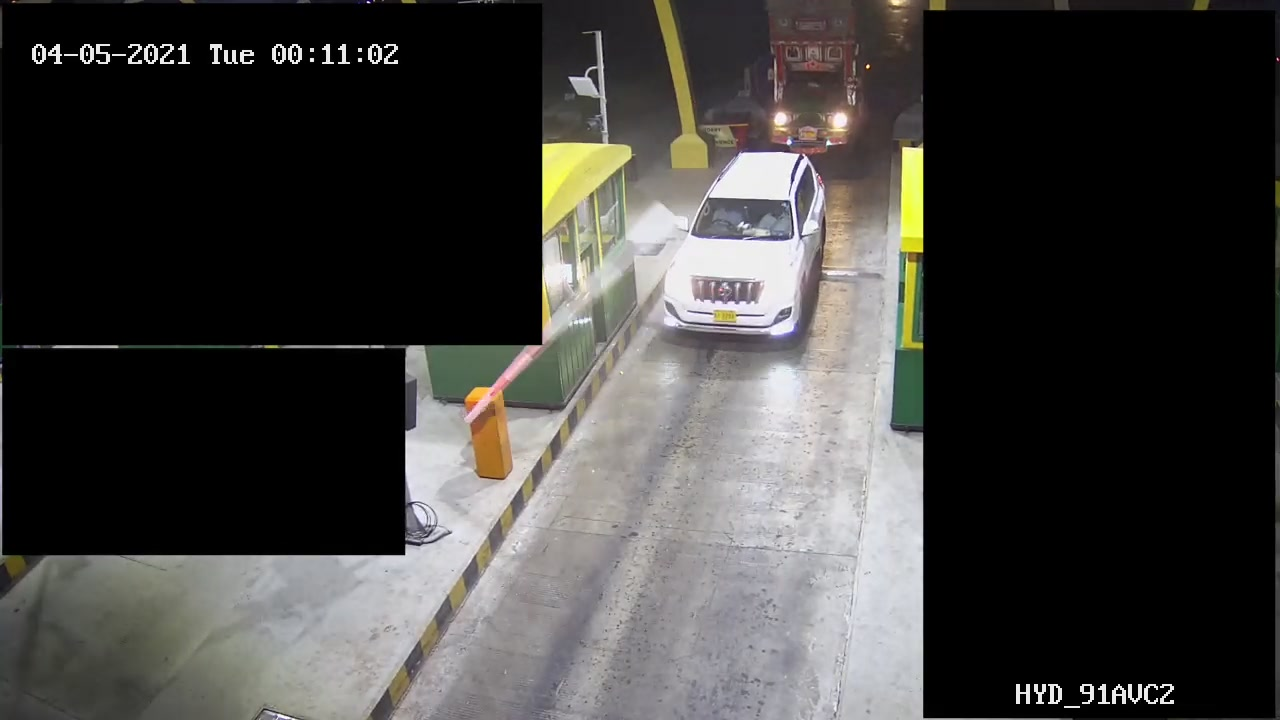F1: (644, 157, 858, 343)
